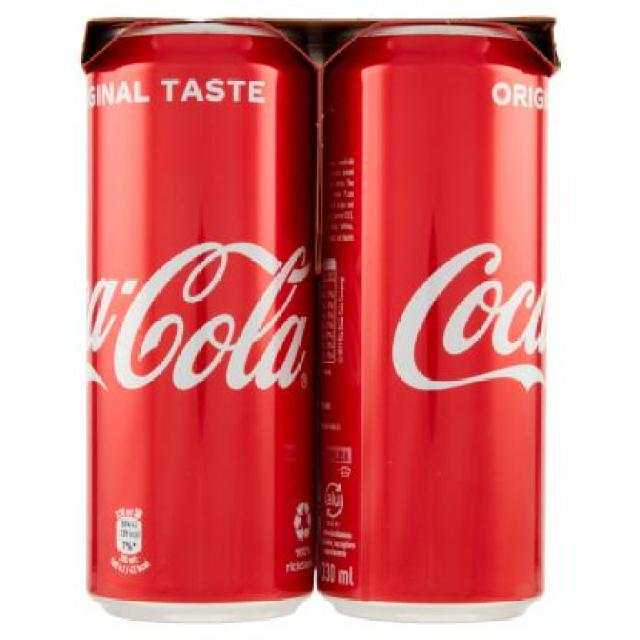Coke: (318, 22, 556, 624), (79, 20, 316, 623)
